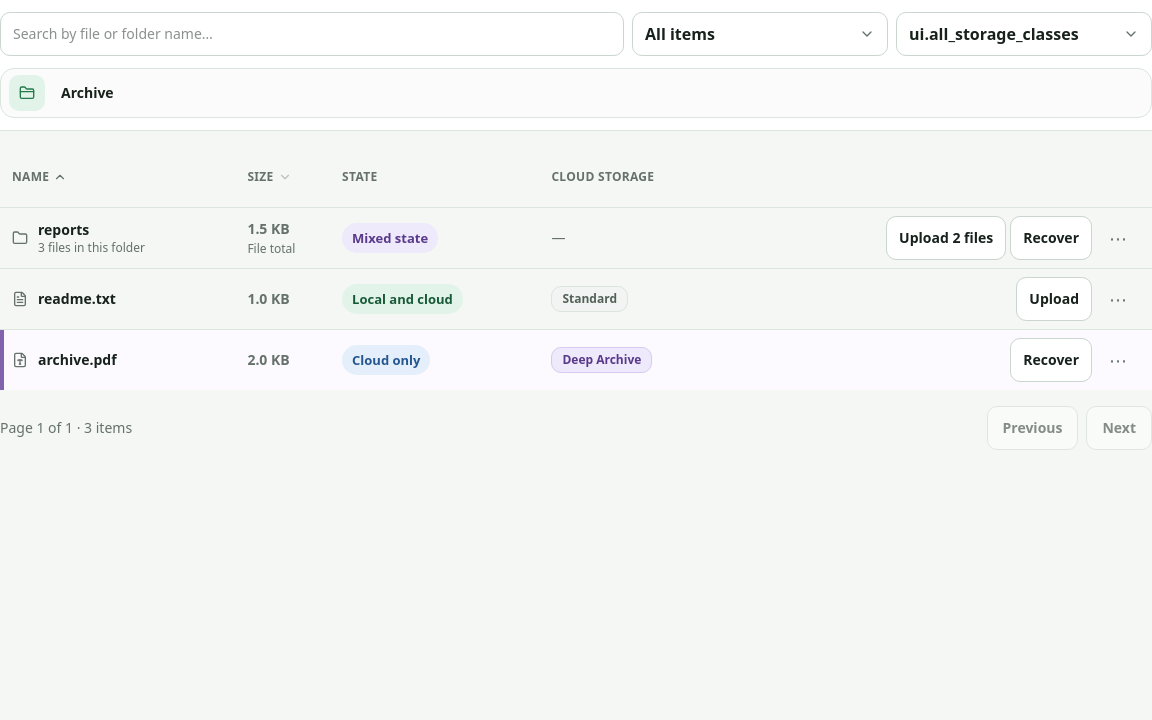
File operations — seams 1–10 › seam 4: restore estimate is shown before confirmation; failed estimate does not block silently
The image size is (1152, 720).
Expected: the element with test id "desktop-actions-archive.pdf" is shown, [1010,338,1140,382]
Click the button "Recover" in the row of "2.0 KB".
click(1051, 360)  # box [1010,338,1092,382]
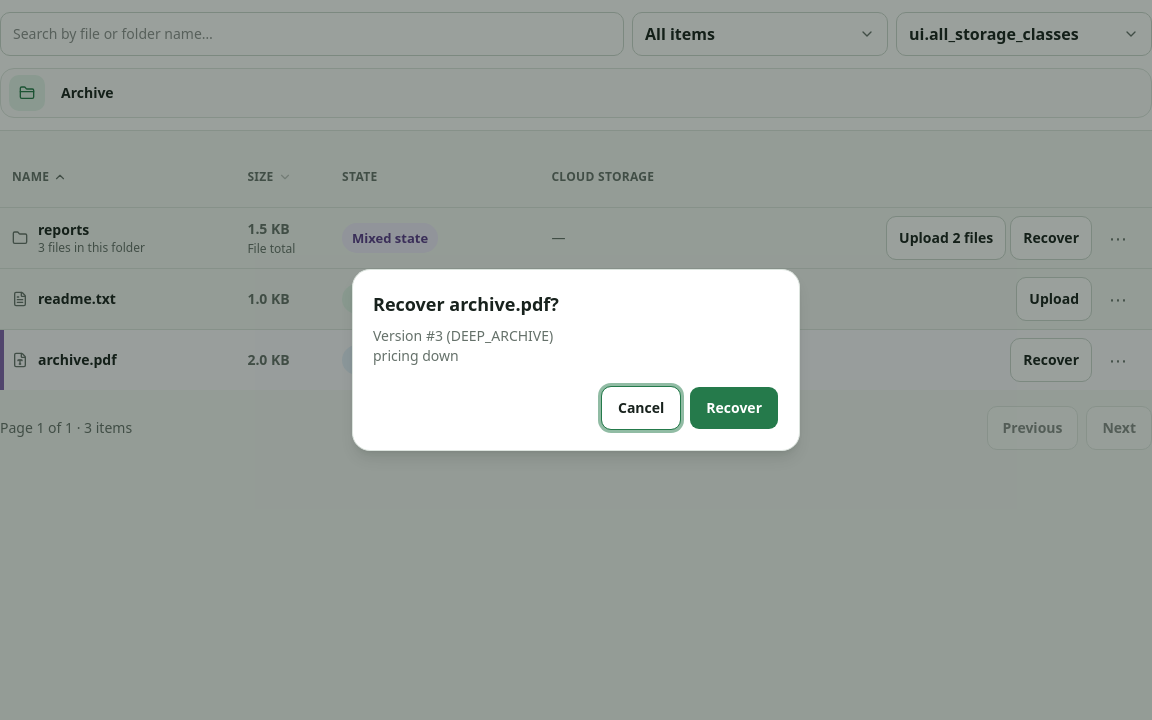
Now the text "Version #3 (DEEP_ARCHIVE) pricing down" is shown, box [373,326,553,365]
Now the button "Recover" is enabled, box [689,386,779,430]
